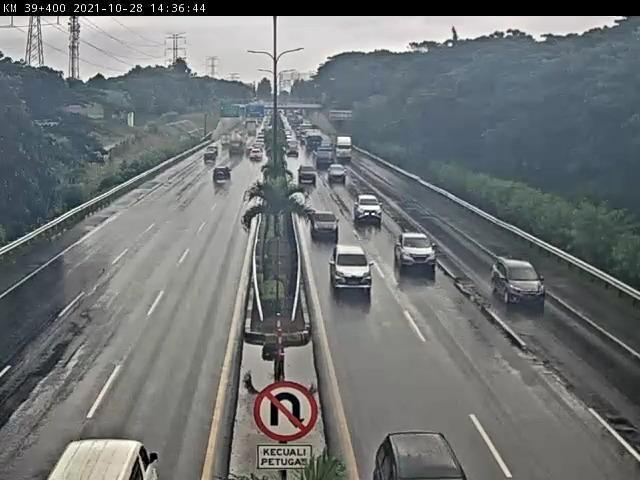car: (378, 397, 449, 475), (54, 426, 148, 478), (395, 226, 444, 284), (488, 259, 534, 316), (326, 250, 377, 292), (356, 197, 383, 223), (313, 210, 337, 237), (298, 162, 321, 182), (323, 163, 341, 180), (216, 170, 235, 186), (249, 152, 263, 168), (203, 150, 219, 161)
truck: (335, 140, 352, 158)
